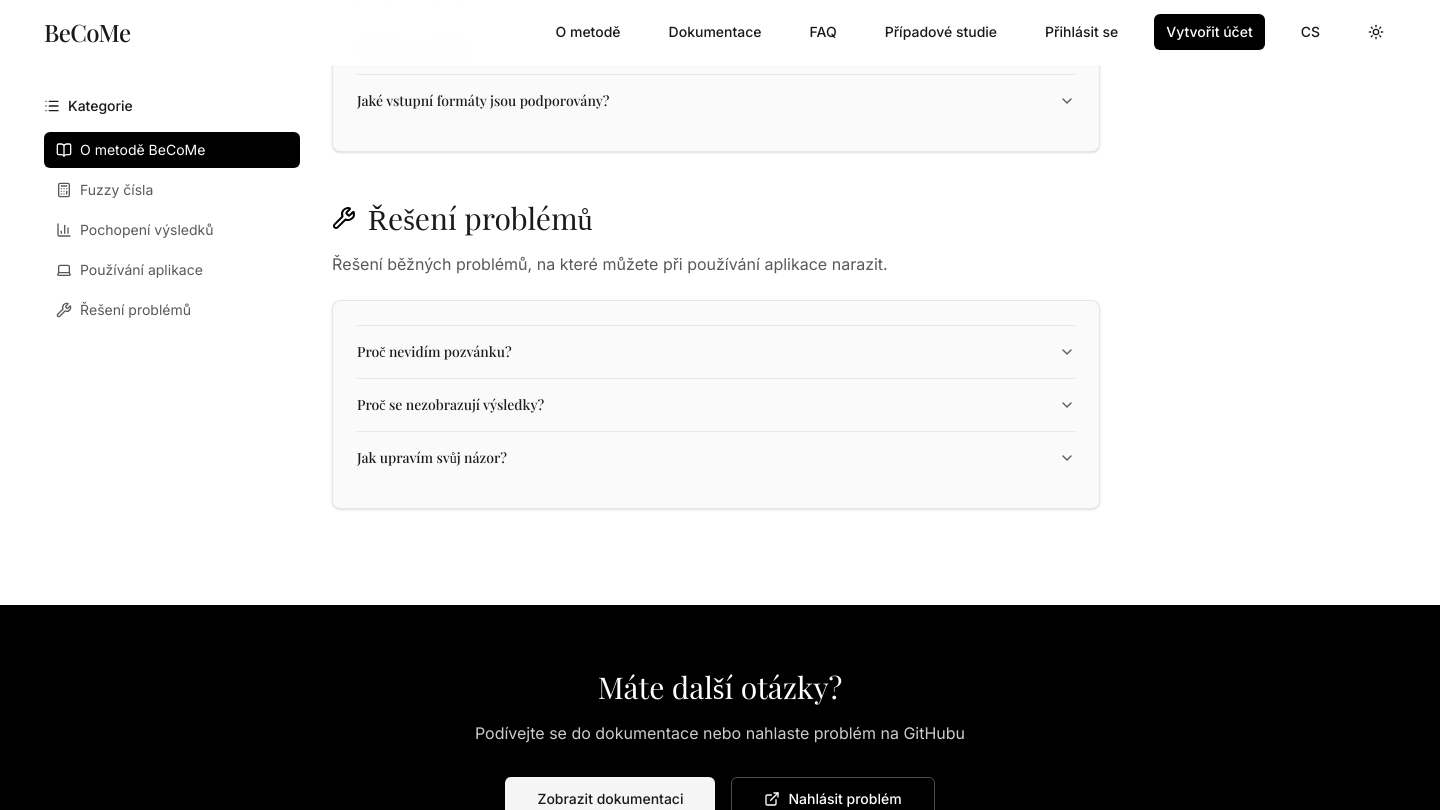
Test: FAQ › answer matches what the application does (cs: Proč se nezobrazují výsledky?)
(page scrolled)
Click the button "Proč se nezobrazují výsledky?" at {"x": 451, "y": 404}, box [357,379,1075,431]
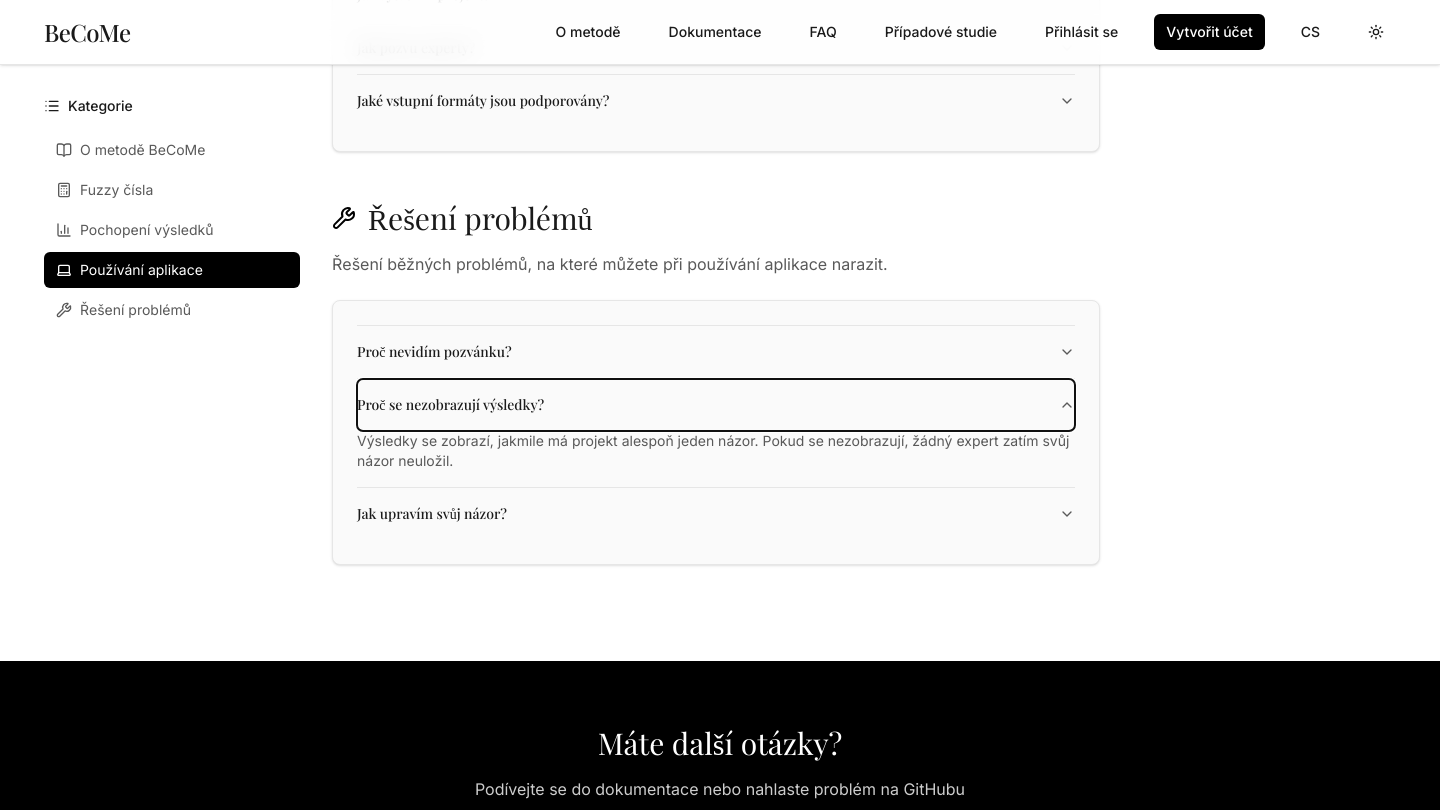
Now the text "Výsledky se zobrazí, jakmile má projekt alespoň jeden názor. Pokud se nezobrazují, žádný expert zatím svůj názor neuloži" is shown, box [357,432,1069,469]
